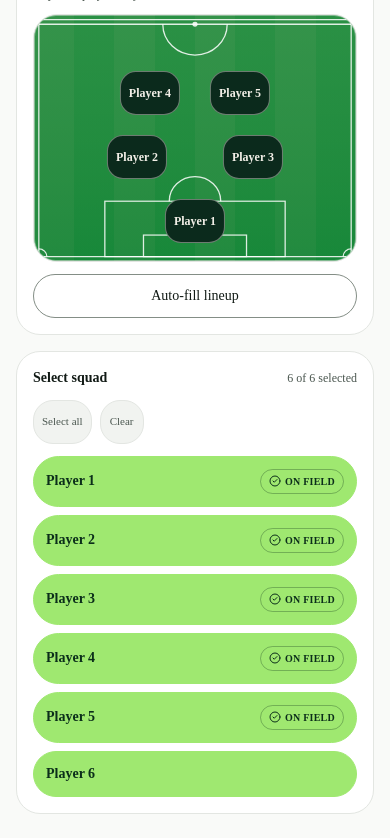
Test: LineupBuilderManager with an active match › swaps the editor for the way back when an edit is rejected because a match became active
(page scrolled)
Click the button "Clear" at (122, 422), box [100,400,144,444]
(page scrolled)
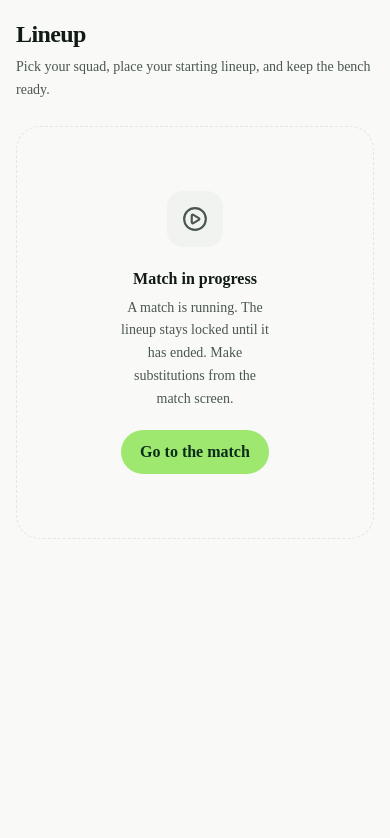
Check: the text "Match in progress" is shown, box [133,270,257,286]
Check: the button "Clear" is gone
